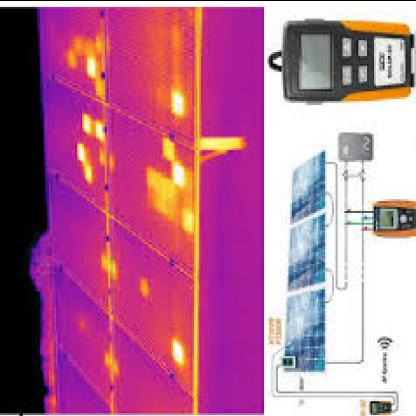Defects: (171, 88, 187, 116), (170, 162, 191, 183)
